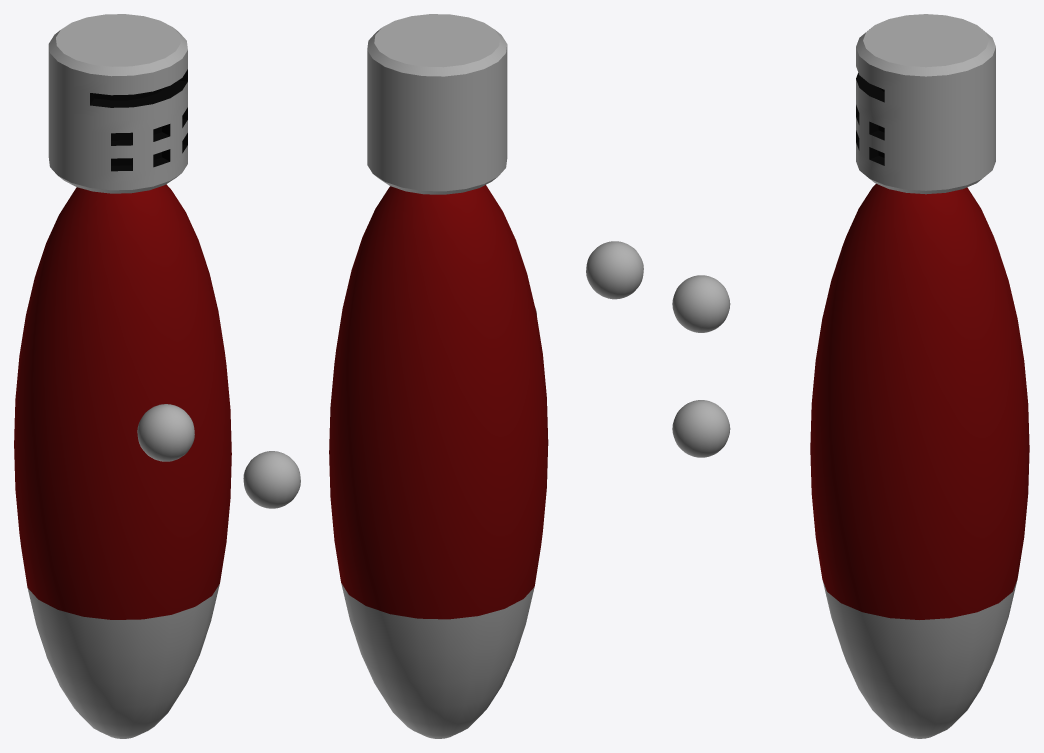
Rendered from red_player.fbx.
The picture shows the model from 3 angles, left to right: view 1: azimuth 30°, elevation 25°; view 2: azimuth 150°, elevation 25°; view 3: azimuth 270°, elevation 25°; orthographic projection.
Parts seen in each view (by area): view 1: player_02; view 2: player_02; view 3: player_02.
Part boxes in pixels (x1,y1,x2,y2): player_02: (14, 14, 300, 738); player_02: (329, 14, 643, 738); player_02: (672, 14, 1029, 738).
Bounding box in the file's own units: 42.9 × 150 × 69.88.
